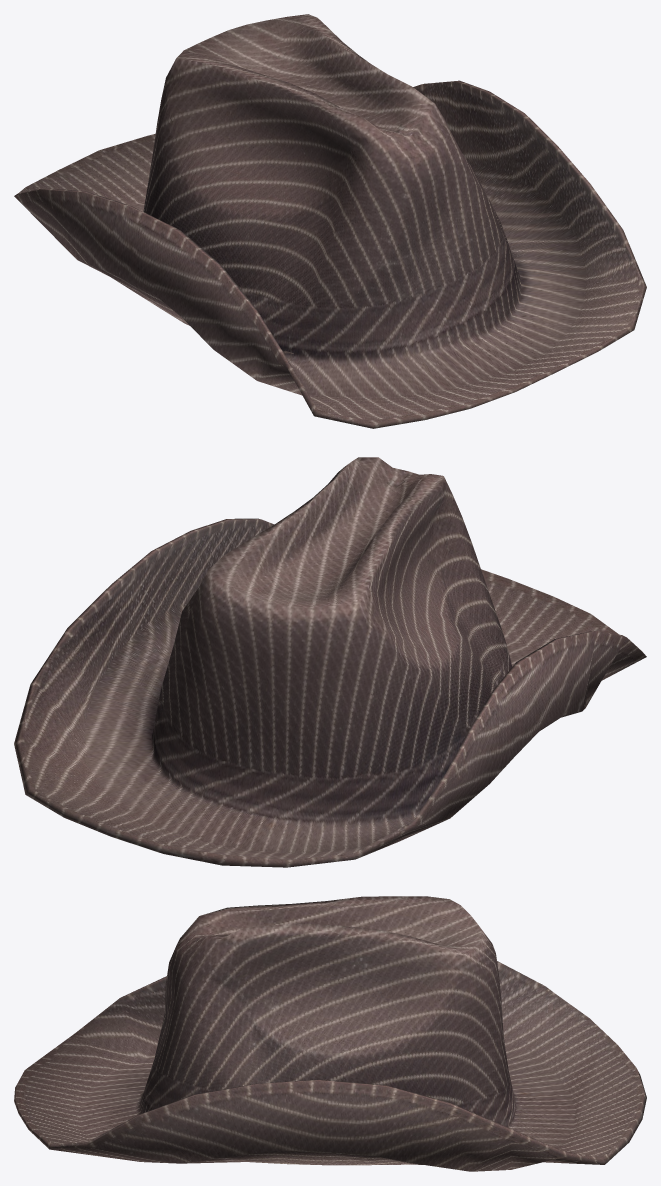
Rendered from Hat.fbx.
The picture shows the model from 3 angles, top to bottom: view 1: azimuth 30°, elevation 25°; view 2: azimuth 150°, elevation 25°; view 3: azimuth 270°, elevation 25°; orthographic projection. The views are drawn at different scales.
Parts seen in each view (by area): view 1: Hat; view 2: Hat; view 3: Hat.
Part boxes in pixels (x1,y1,x2,y2): Hat: [14, 14, 646, 428]; Hat: [14, 457, 646, 867]; Hat: [14, 896, 646, 1171].
Bounding box in the file's own units: 24.81 × 13.75 × 38.1.
